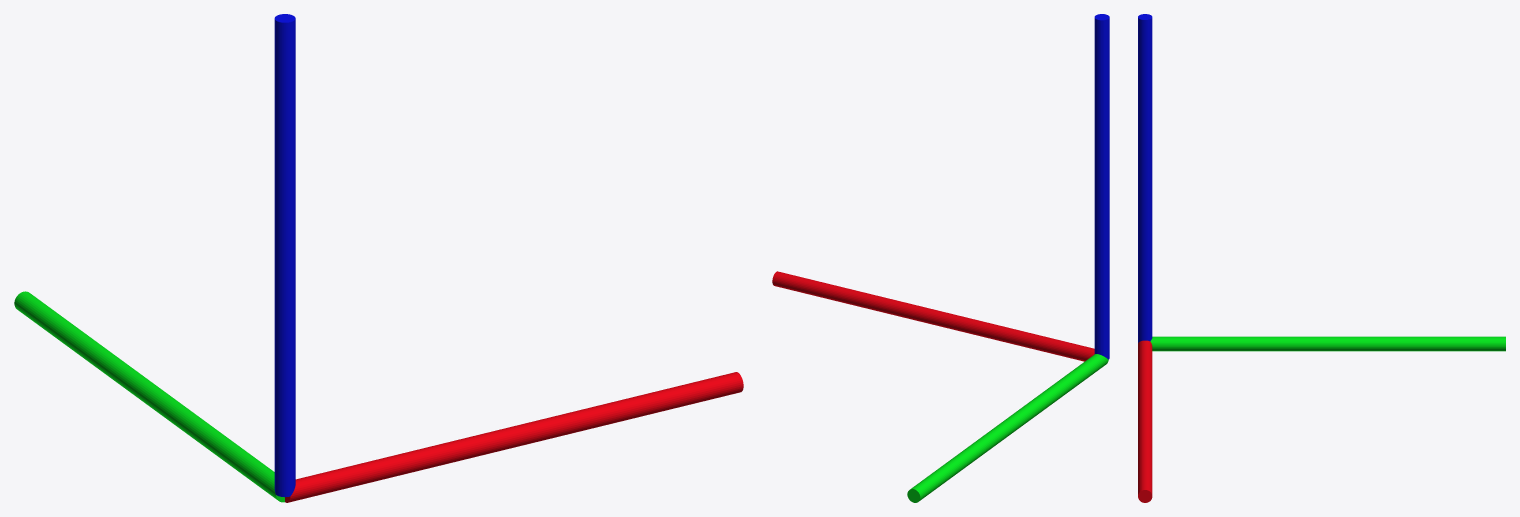
The model's file is axes.glb.
3 views of the same model, side by side, from view 1: azimuth 30°, elevation 25°; view 2: azimuth 150°, elevation 25°; view 3: azimuth 270°, elevation 25° (orthographic). The views are drawn at different scales.
Visible parts, largest first — view 1: Cylinder.002, Cylinder.001, Cylinder; view 2: Cylinder.002, Cylinder.001, Cylinder; view 3: Cylinder, Cylinder.002, Cylinder.001.
Part boxes in pixels (x1,y1,x2,y2): Cylinder.002: (274,14,295,497); Cylinder.001: (285,372,743,502); Cylinder: (14,291,284,502); Cylinder.002: (1094,14,1109,359); Cylinder.001: (772,271,1094,361); Cylinder: (907,354,1108,502); Cylinder: (1150,336,1505,351); Cylinder.002: (1138,14,1152,342); Cylinder.001: (1138,340,1152,502).
Bounding box in the file's own units: 2.04 × 2.04 × 2.04.
